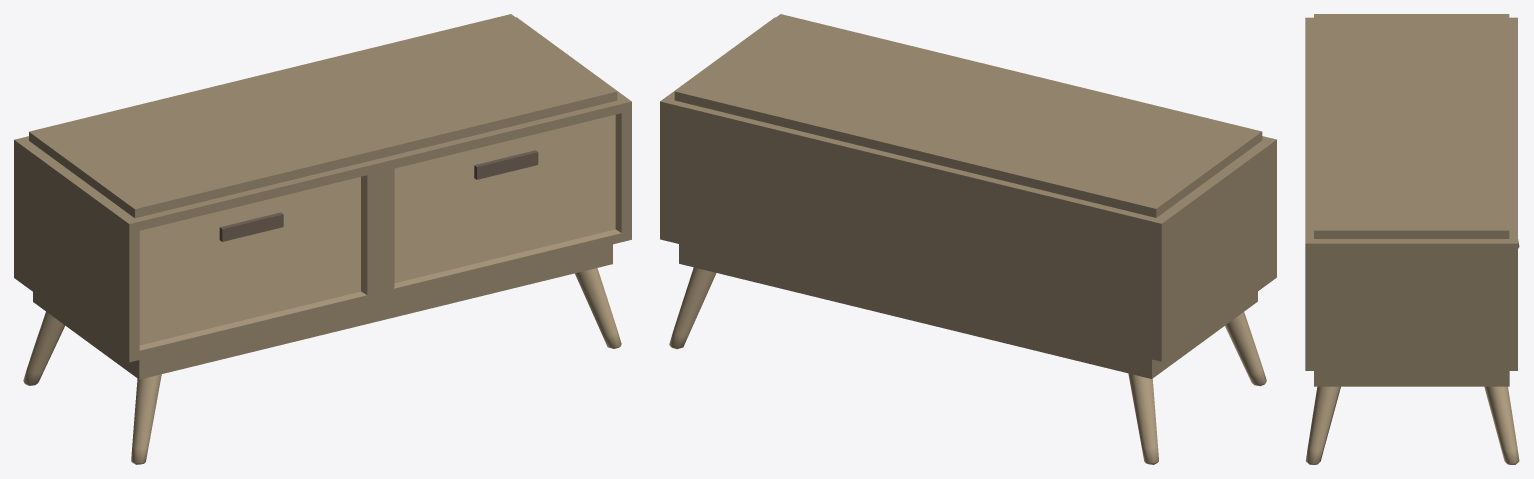
File: drawer.glb
3 views of the same model, side by side, from view 1: azimuth 30°, elevation 25°; view 2: azimuth 150°, elevation 25°; view 3: azimuth 270°, elevation 25° (orthographic). The views are drawn at different scales.
Visible parts, largest first — view 1: Drawer_1; view 2: Drawer_1; view 3: Drawer_1.
Boxes of the visible parts, x1,y1,x2,y2 form: Drawer_1: (14, 14, 631, 464); Drawer_1: (660, 14, 1276, 464); Drawer_1: (1305, 14, 1519, 464).
Bounding box in the file's own units: 2.79 × 1.35 × 1.12.
